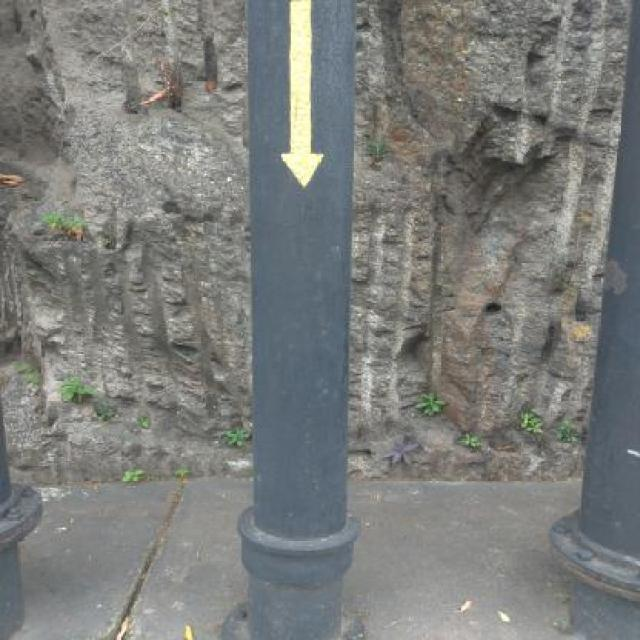gas: (245, 6, 354, 638)
